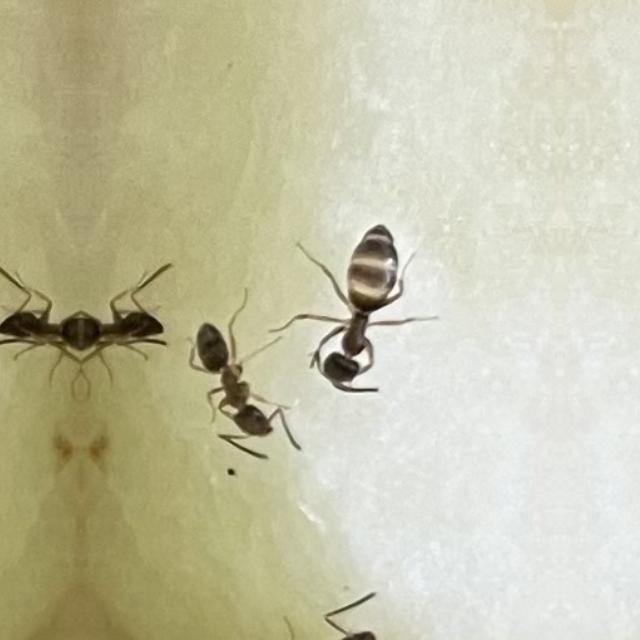Tapinoma: (299, 210, 423, 412), (174, 298, 288, 474), (81, 272, 173, 388), (0, 270, 78, 387)
